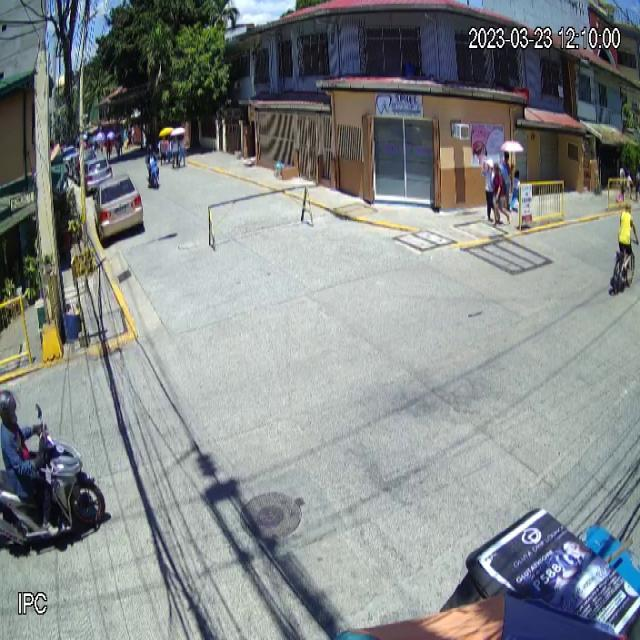Car: (92, 174, 144, 245)
Motorcycle: (0, 403, 105, 552)
